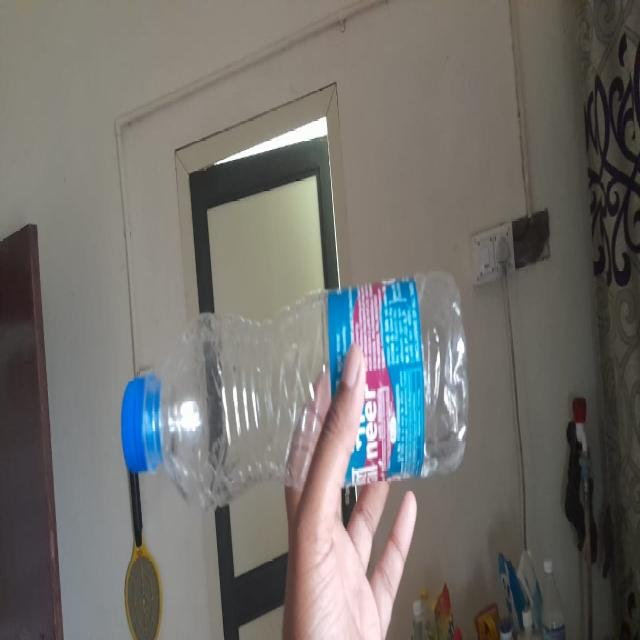Plastic - Recyclable: (120, 268, 470, 513)
